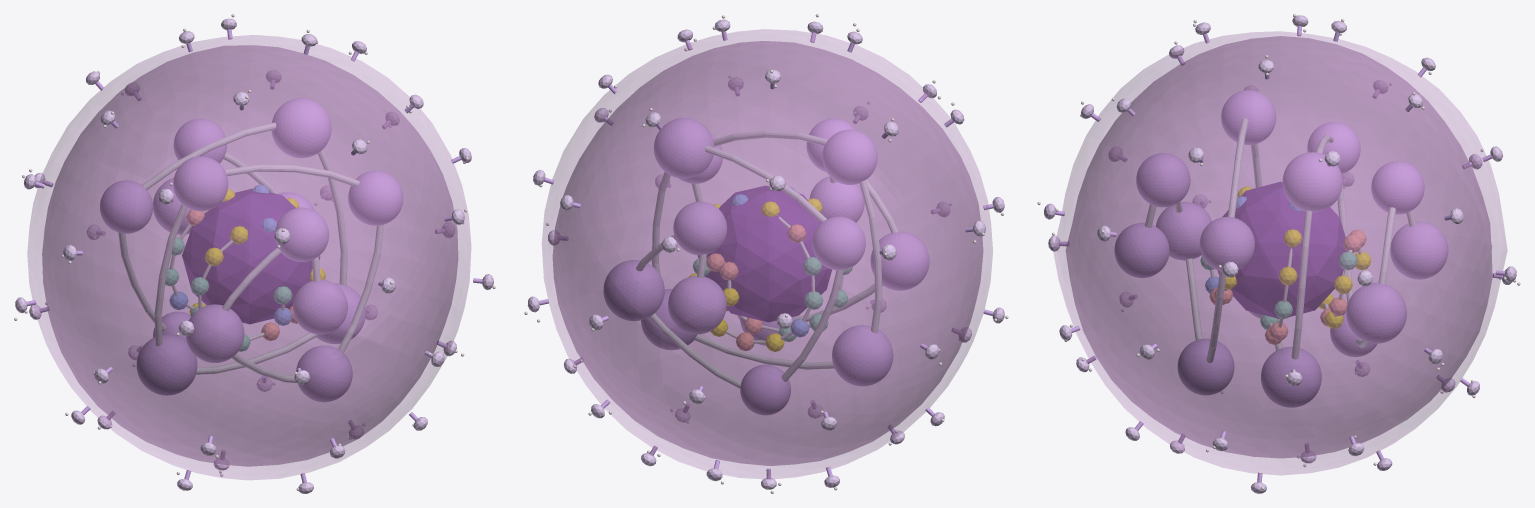
Rendered from virus_virus_ficticio_d_8280297.glb.
3 views of the same model, side by side, from view 1: azimuth 30°, elevation 25°; view 2: azimuth 150°, elevation 25°; view 3: azimuth 270°, elevation 25° (orthographic).
Visible parts, largest first — view 1: geometry_0, geometry_1, geometry_2, geometry_162, geometry_164, geometry_158, geometry_161, geometry_156, geometry_160, geometry_159, geometry_165, geometry_157 (+4 smaller); view 2: geometry_0, geometry_1, geometry_2, geometry_162, geometry_167, geometry_164, geometry_169, geometry_161, geometry_158, geometry_165, geometry_168, geometry_166 (+3 smaller); view 3: geometry_0, geometry_1, geometry_2, geometry_167, geometry_164, geometry_163, geometry_169, geometry_159, geometry_156, geometry_157, geometry_160, geometry_161 (+4 smaller).
Part boxes in pixels (x1,y1,x2,y2): geometry_0: [27, 35, 470, 479]; geometry_1: [42, 45, 458, 466]; geometry_2: [182, 188, 320, 324]; geometry_162: [136, 334, 197, 395]; geometry_164: [271, 98, 331, 158]; geometry_158: [186, 304, 244, 362]; geometry_161: [173, 156, 228, 211]; geometry_156: [293, 279, 347, 334]; geometry_160: [348, 170, 403, 225]; geometry_159: [296, 345, 352, 402]; geometry_165: [100, 180, 153, 233]; geometry_157: [275, 207, 329, 261]; geometry_0: [542, 29, 992, 479]; geometry_1: [552, 41, 983, 465]; geometry_2: [698, 185, 831, 322]; geometry_162: [832, 325, 893, 386]; geometry_167: [603, 260, 664, 321]; geometry_164: [653, 118, 714, 178]; geometry_169: [668, 276, 726, 334]; geometry_161: [822, 129, 877, 184]; geometry_158: [870, 231, 929, 290]; geometry_165: [812, 216, 865, 270]; geometry_168: [673, 201, 726, 255]; geometry_166: [740, 364, 790, 415]; geometry_0: [1053, 31, 1507, 475]; geometry_1: [1065, 36, 1492, 458]; geometry_2: [1218, 181, 1347, 318]; geometry_167: [1346, 283, 1406, 343]; geometry_164: [1282, 152, 1342, 212]; geometry_163: [1261, 347, 1321, 407]; geometry_169: [1390, 221, 1448, 279]; geometry_159: [1177, 338, 1234, 395]; geometry_156: [1114, 223, 1169, 277]; geometry_157: [1136, 153, 1190, 207]; geometry_160: [1199, 217, 1254, 271]; geometry_161: [1221, 90, 1276, 144].
Bounding box in the file's own units: 16.34 × 16.47 × 16.21.
